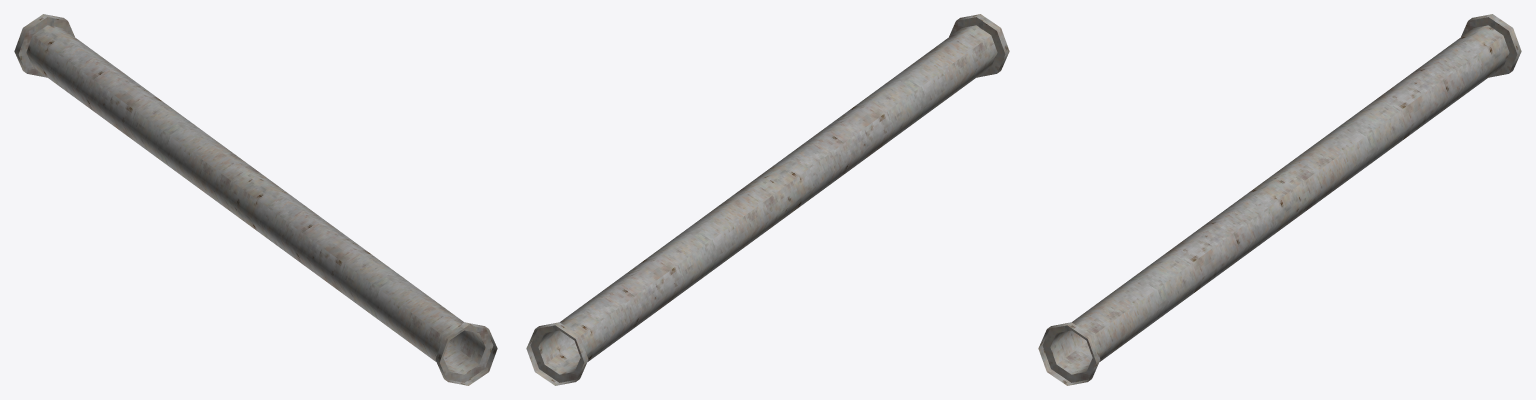
File: _Pipe_Straight_1.FBX
The picture shows the model from 3 angles, left to right: view 1: azimuth 30°, elevation 25°; view 2: azimuth 150°, elevation 25°; view 3: azimuth 330°, elevation 25°; orthographic projection.
Parts seen in each view (by area): view 1: _Pipe_Straight_1; view 2: _Pipe_Straight_1; view 3: _Pipe_Straight_1.
Part boxes in pixels (x1=…): _Pipe_Straight_1: x1=14, y1=14, x2=497, y2=385; _Pipe_Straight_1: x1=526, y1=14, x2=1009, y2=385; _Pipe_Straight_1: x1=1038, y1=14, x2=1521, y2=385.
Bounding box in the file's own units: 20 × 20 × 254.
Materials: 1 (1 with a texture image).
